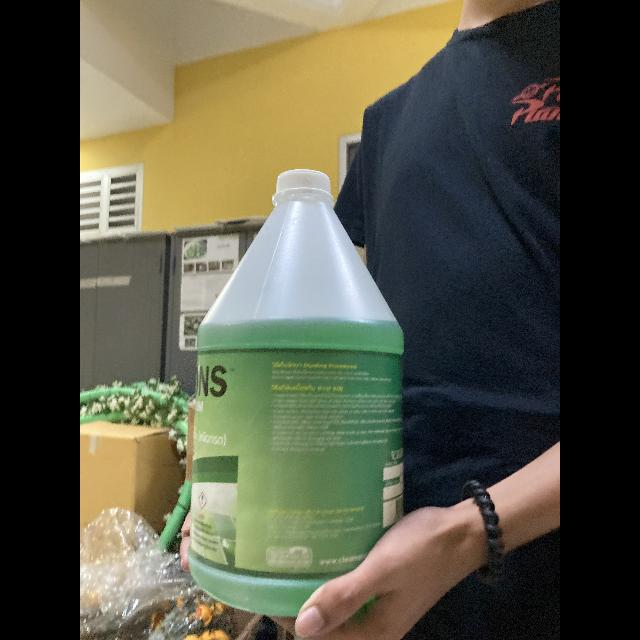chemical_plastic_gallon: (194, 168, 410, 612)
